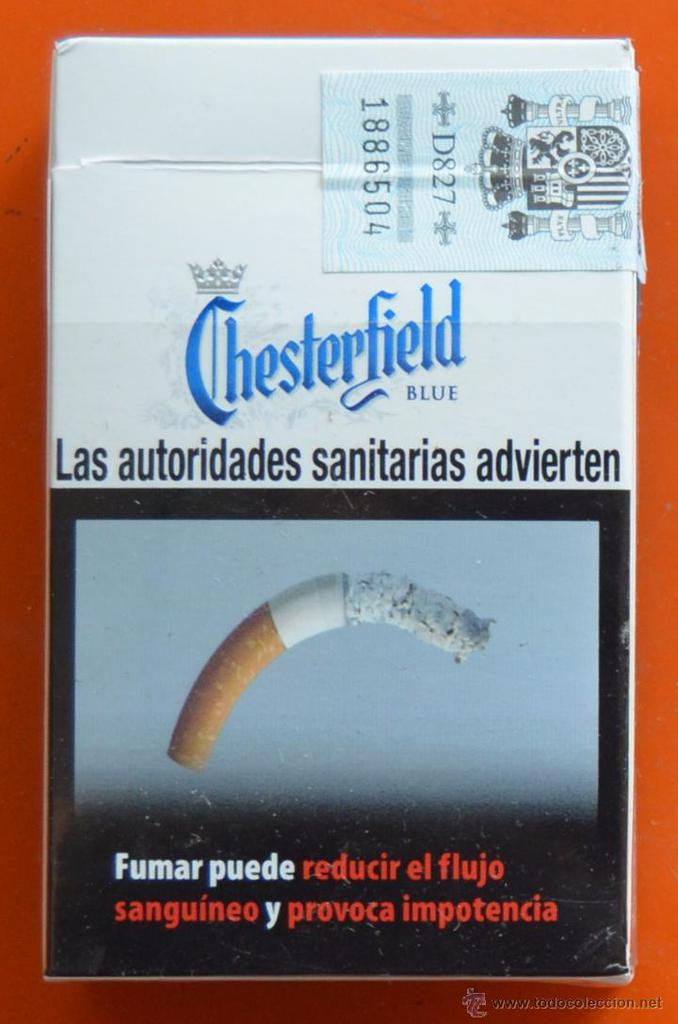chesterfield_blue: (54, 42, 632, 979)
